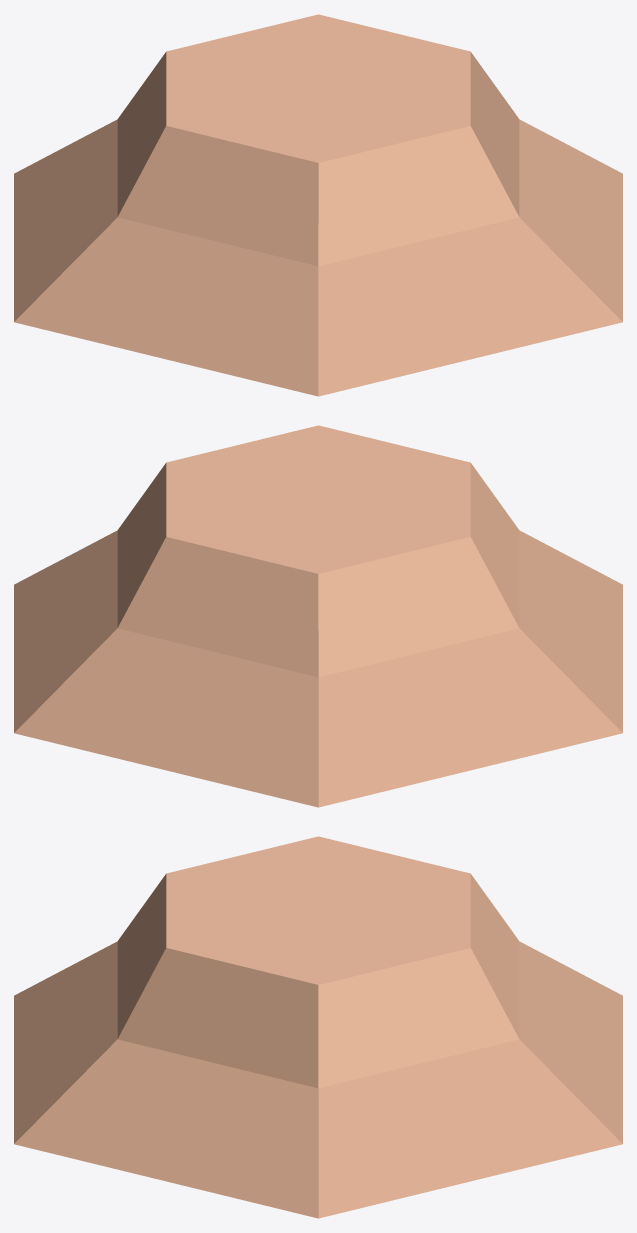
File: crops_dirtSingle.fbx
3 renders of one model, top to bottom at view 1: azimuth 30°, elevation 25°; view 2: azimuth 150°, elevation 25°; view 3: azimuth 270°, elevation 25°, orthographic.
Parts seen in each view (by area): view 1: crops_dirtSingle_LOD0; view 2: crops_dirtSingle_LOD0; view 3: crops_dirtSingle_LOD0.
Boxes of the visible parts, x1,y1,x2,y2 form: crops_dirtSingle_LOD0: (14,14,622,396); crops_dirtSingle_LOD0: (14,425,622,807); crops_dirtSingle_LOD0: (14,836,622,1218).
Size of what is drawn, in the model's own units: 40 by 10 by 34.64.
